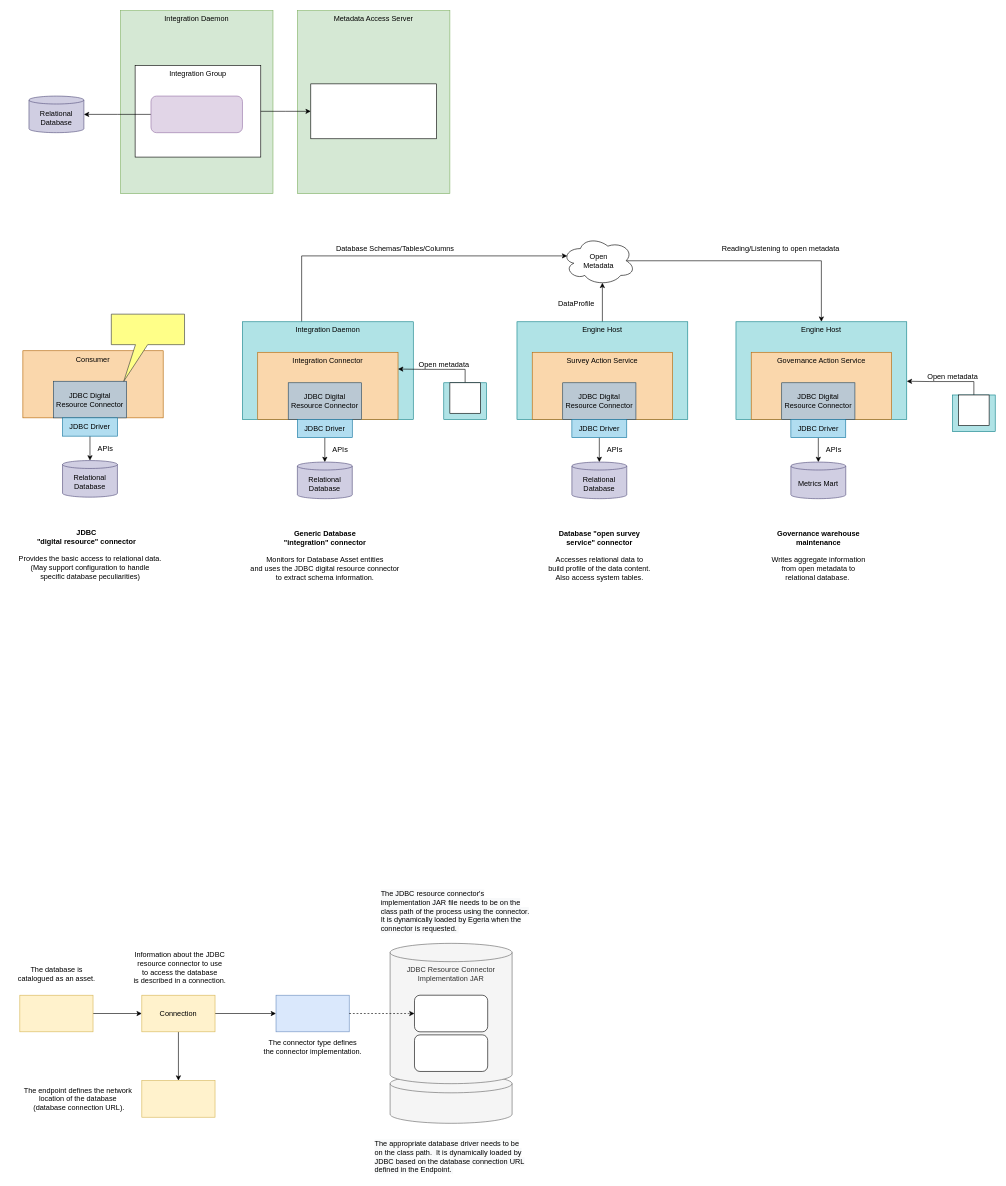
The diagram is 1006 pixels wide and 1186 high, and some of its shapes have lost their labels. Each missing label, with the centre of its shape:
"API matches the Java JDBC interface" belongs at (148,347).
"Connector" belongs at (451,1052).
"Connector Provider" belongs at (451,1013).
"Connector Type" belongs at (312,1013).
"Database" belongs at (56,1013).
"Database Driver JAR" belongs at (450,1098).
"Endpoint" belongs at (178,1098).
"JDBC Integration Connector" belongs at (196,114).
"Open Metadata Framework Service" belongs at (373,111).
